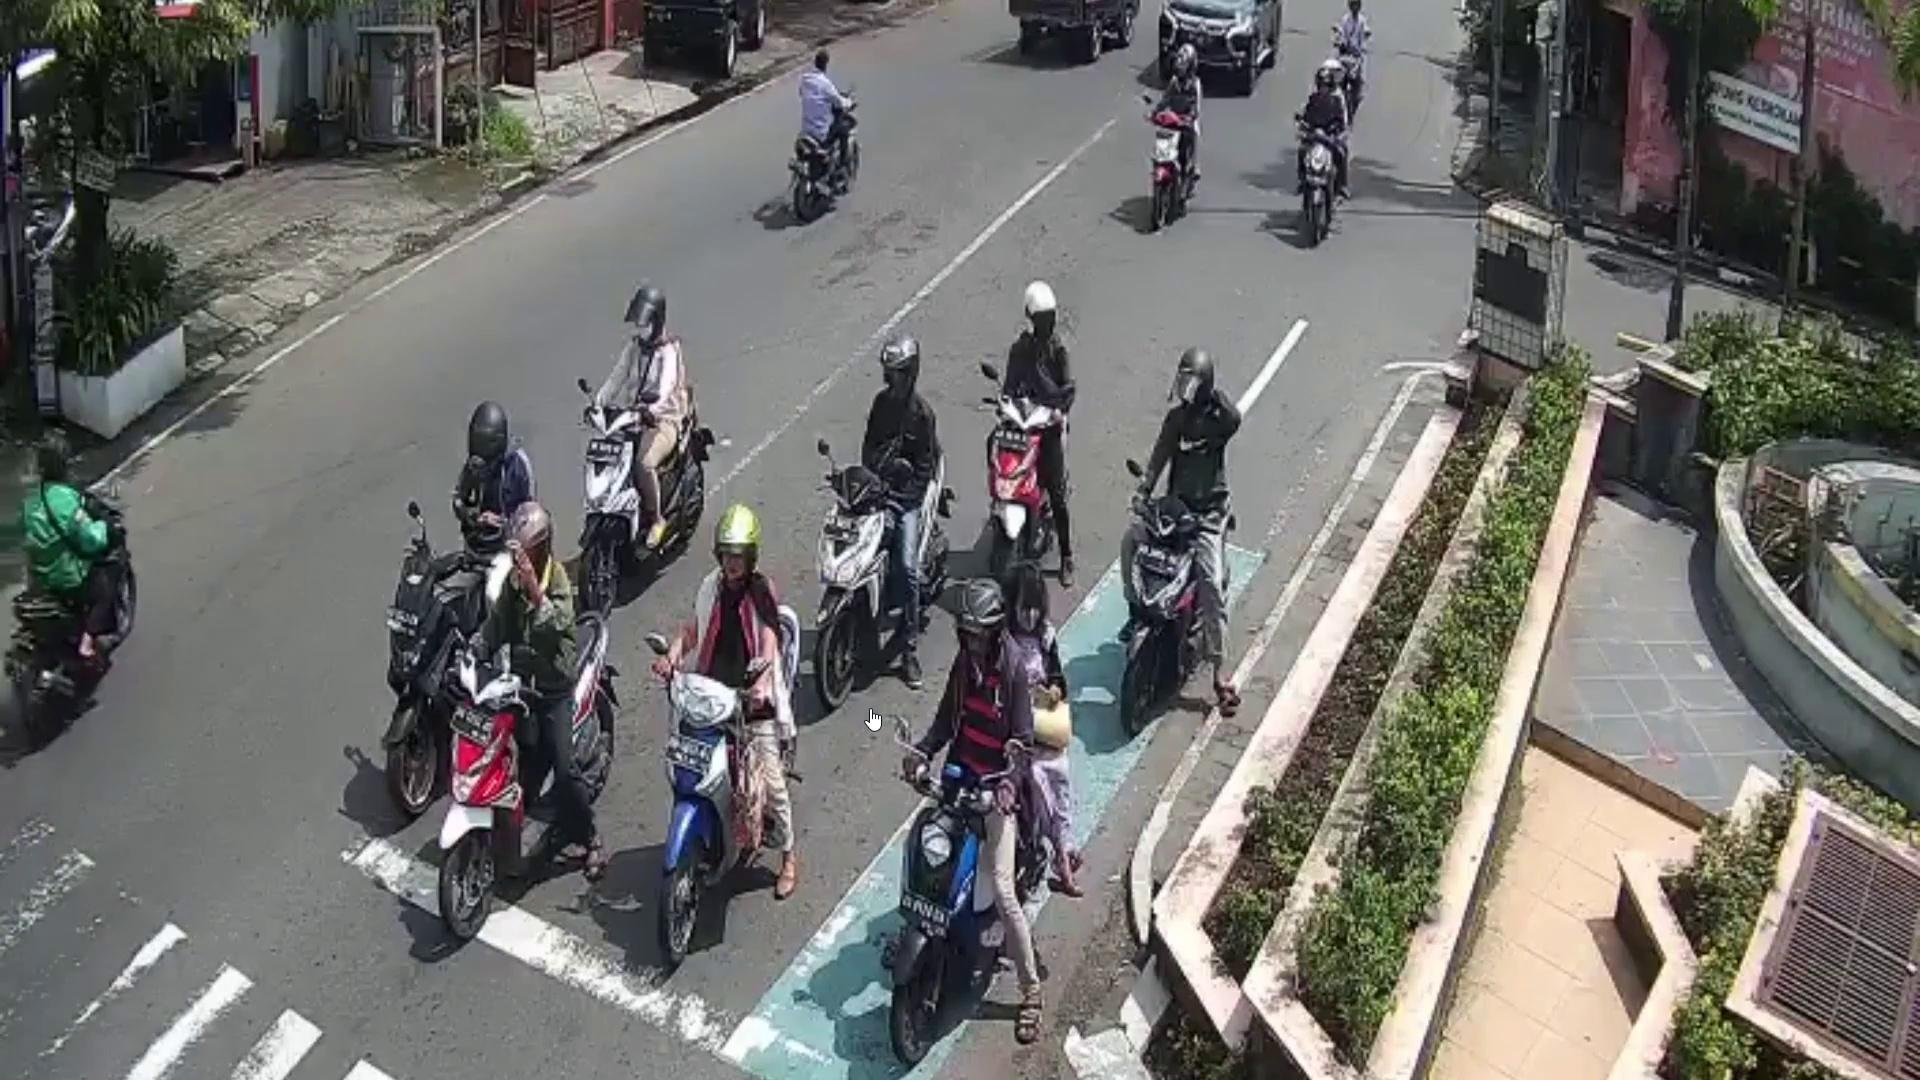car: (1162, 0, 1274, 84)
motorbike: (440, 608, 611, 948), (659, 600, 806, 948), (818, 444, 947, 728), (11, 488, 137, 744), (382, 542, 484, 822), (897, 770, 992, 1065), (580, 381, 700, 601), (1122, 495, 1201, 738), (982, 388, 1055, 596), (793, 95, 857, 219), (1147, 103, 1185, 228), (1305, 125, 1336, 257)
